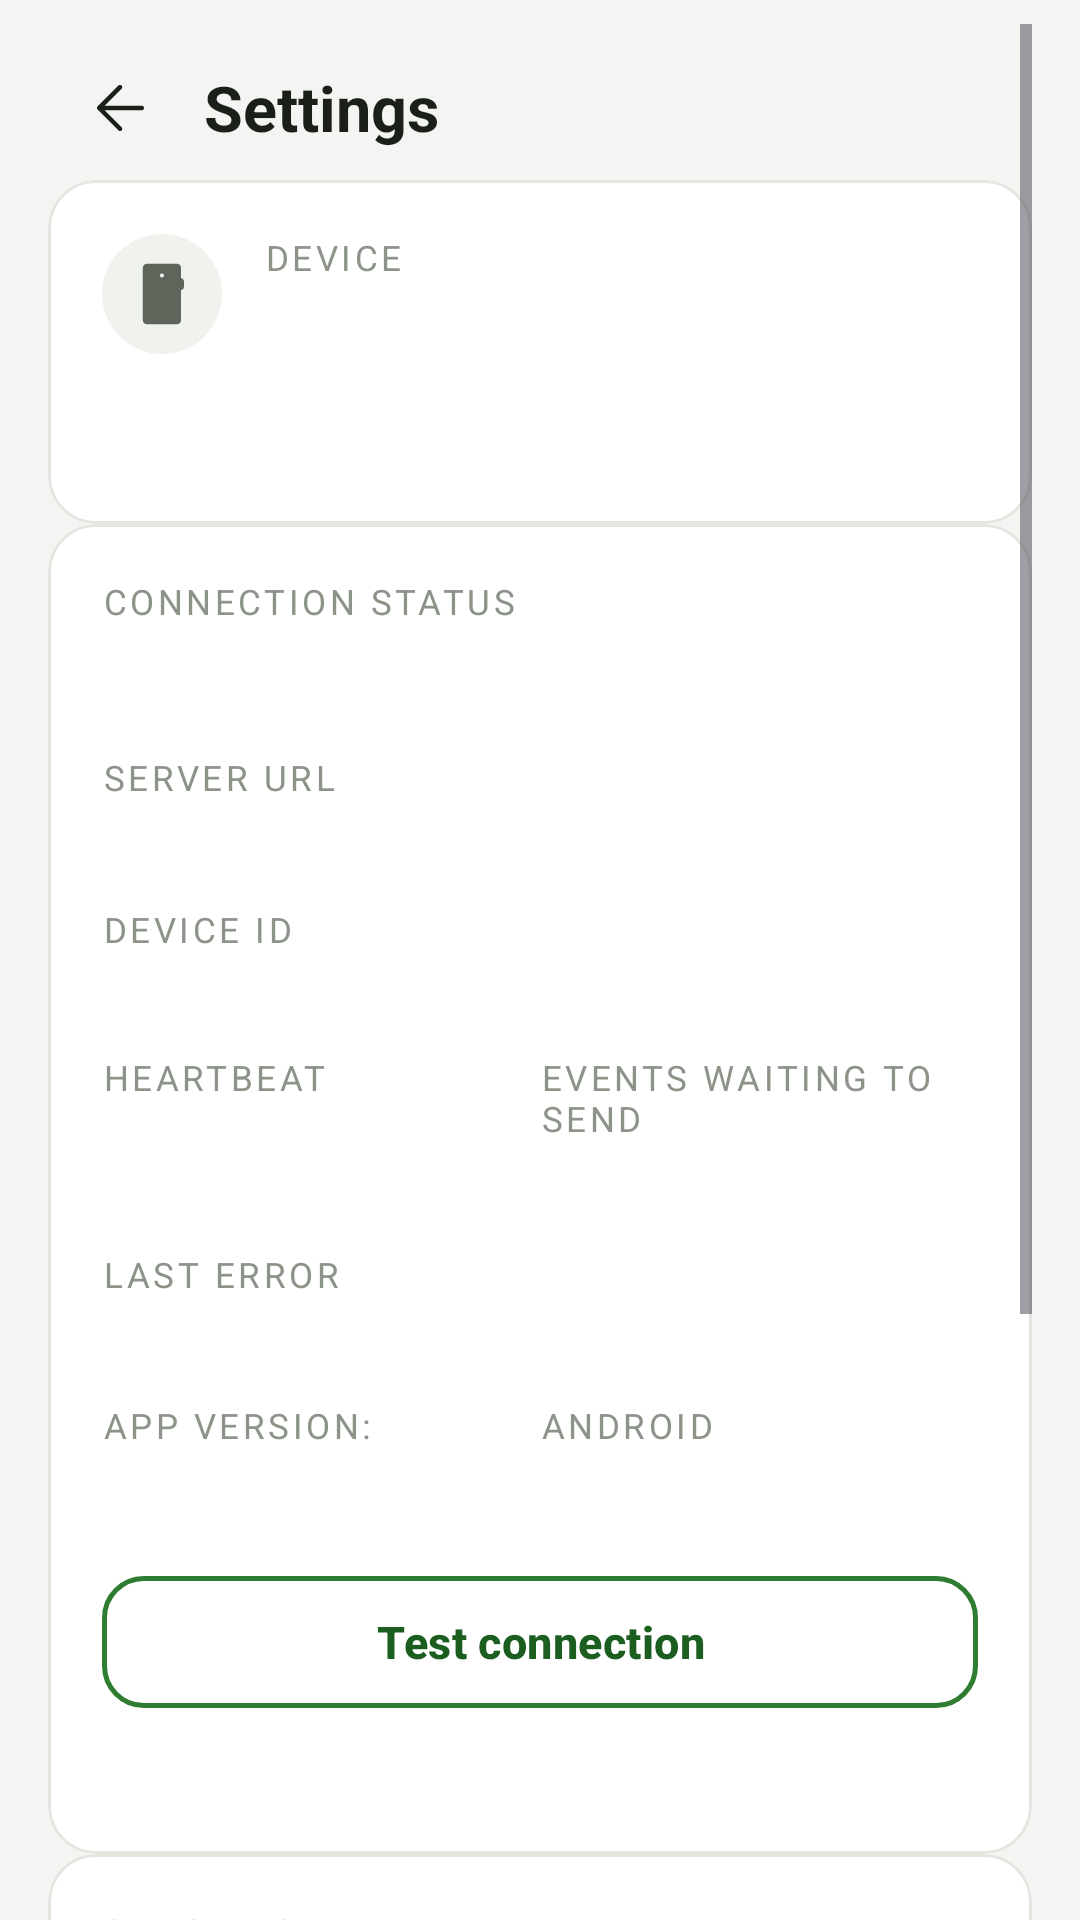

Where to tap for icons on this 1080*1920 app screen, as [x,y]:
Back: [120,108]
phone android: [163,294]
